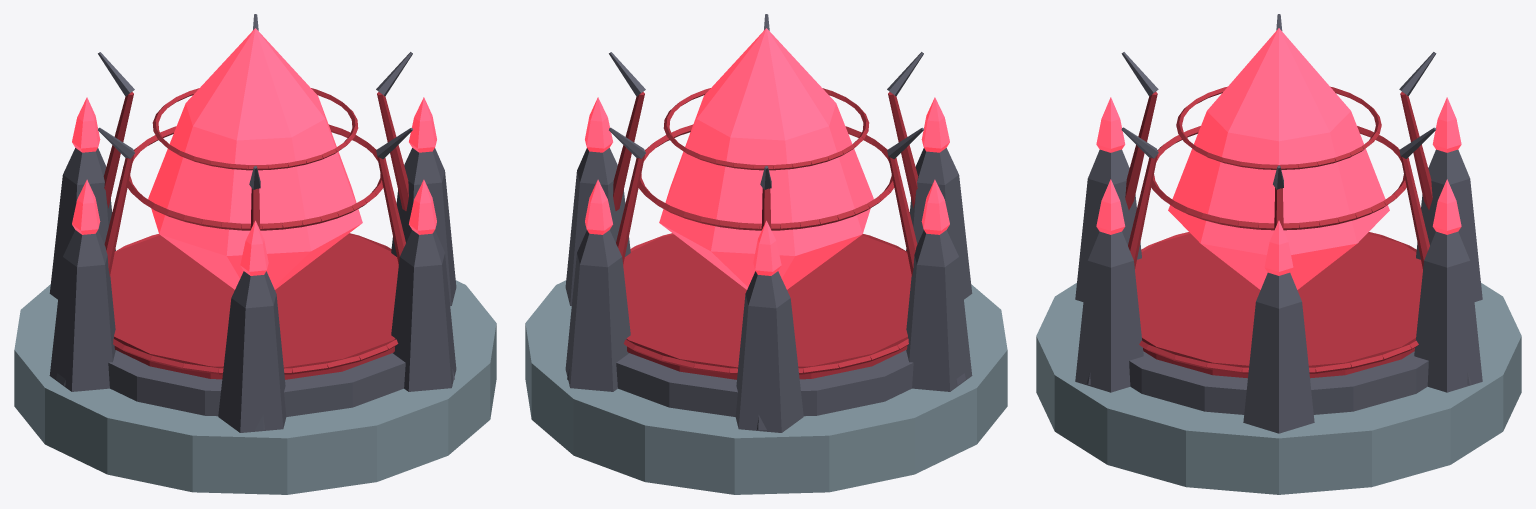
File: tenebra_core_architecture_review.glb
The picture shows the model from 3 angles, left to right: view 1: azimuth 30°, elevation 25°; view 2: azimuth 150°, elevation 25°; view 3: azimuth 270°, elevation 25°; orthographic projection.
Visible parts, largest first — view 1: tenebra_core; view 2: tenebra_core; view 3: tenebra_core.
Boxes of the visible parts, x1,y1,x2,y2 form: tenebra_core: (14,14,496,494); tenebra_core: (525,14,1007,494); tenebra_core: (1036,14,1521,494).
Bounding box in the file's own units: 7 × 5.8 × 7.
